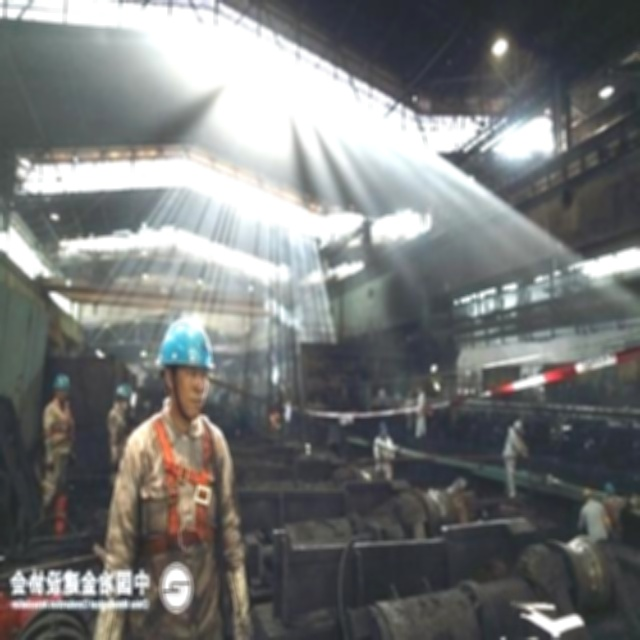Con_Casco: (163, 314, 213, 407)
